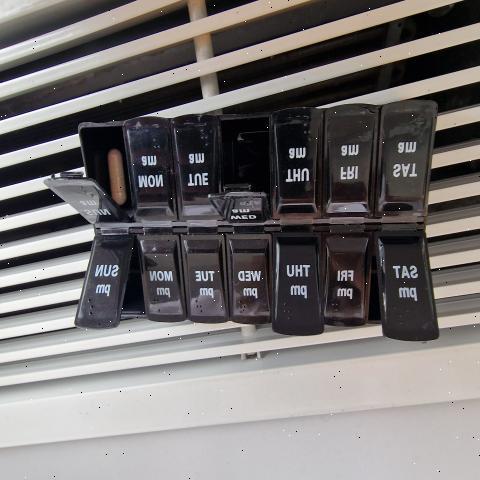Open: (215, 118, 273, 214), (80, 125, 135, 220), (116, 238, 147, 325), (368, 250, 379, 322)
